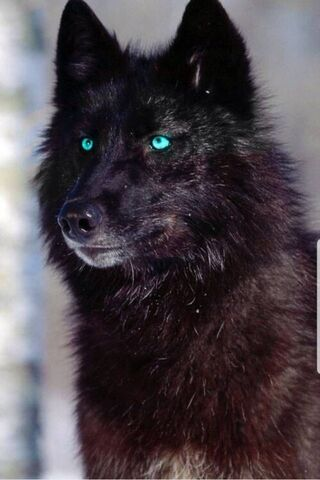Lobo: (29, 2, 297, 369)
